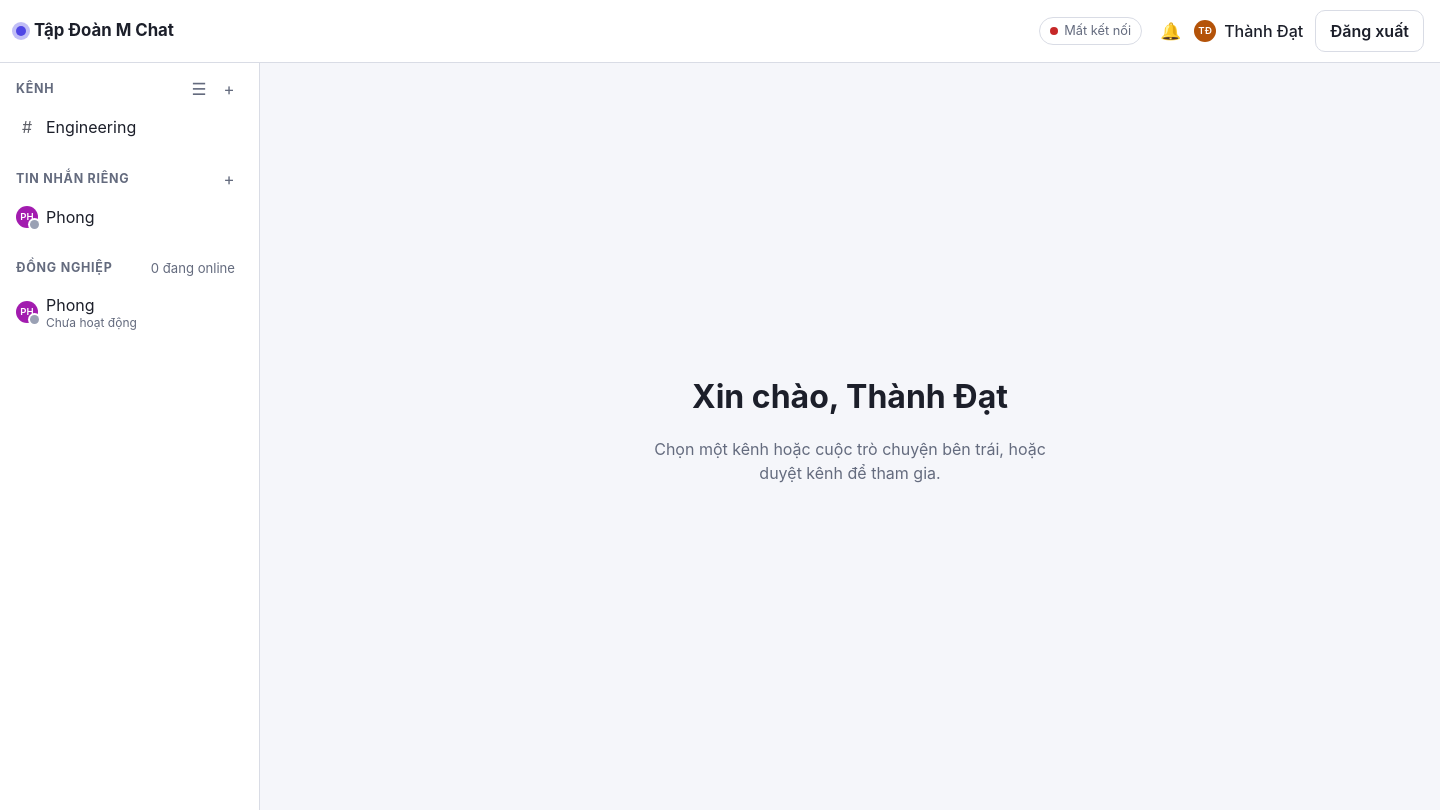
tin nhắn riêng (F04) › tìm nhân viên rồi mở cuộc trò chuyện riêng
Step 1. Click the button named "Tin nhắn mới" → click(229, 179), box [215,165,243,193]
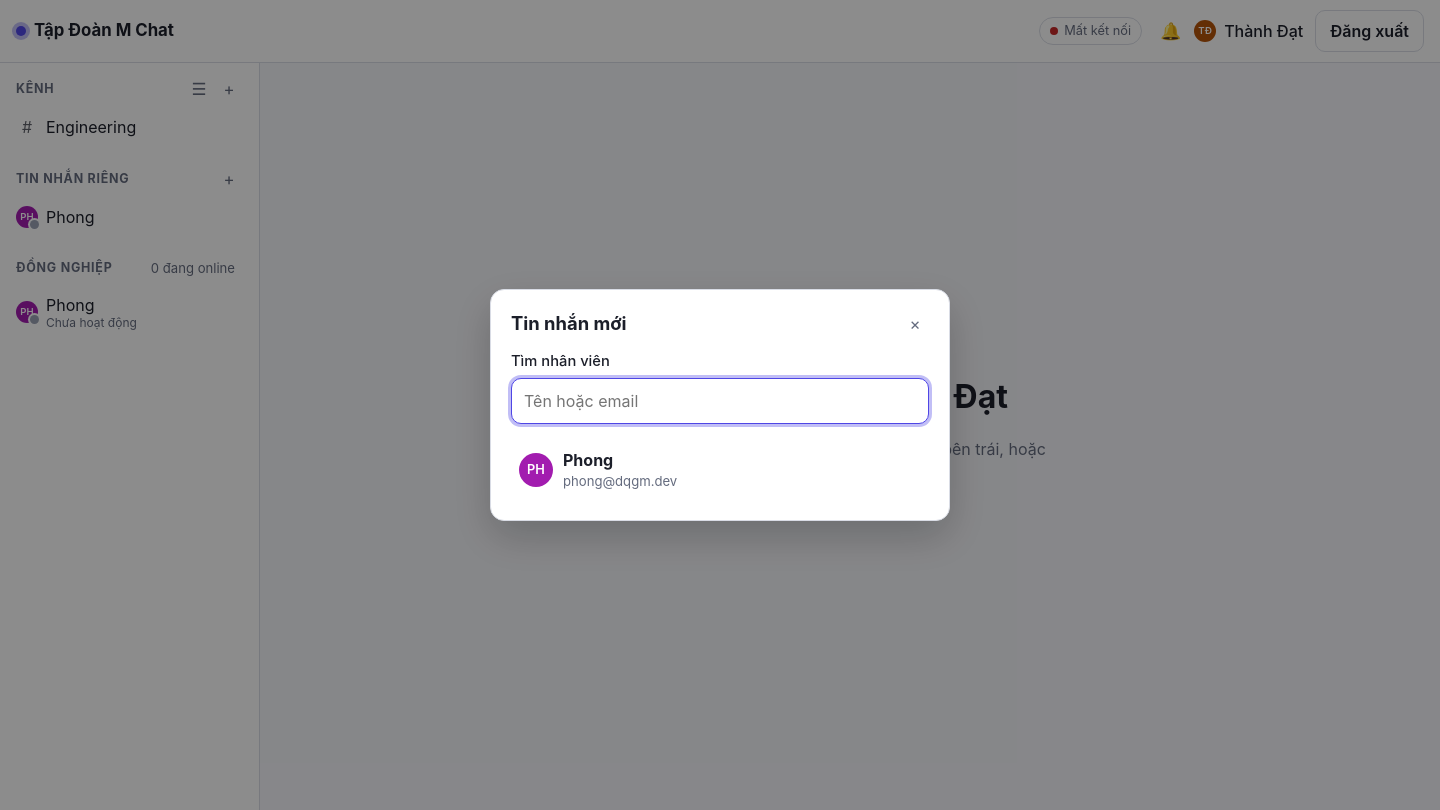
Step 2. Type "pho" into the search field labelled "Tìm nhân viên" → (720, 401), box [511,378,929,424]
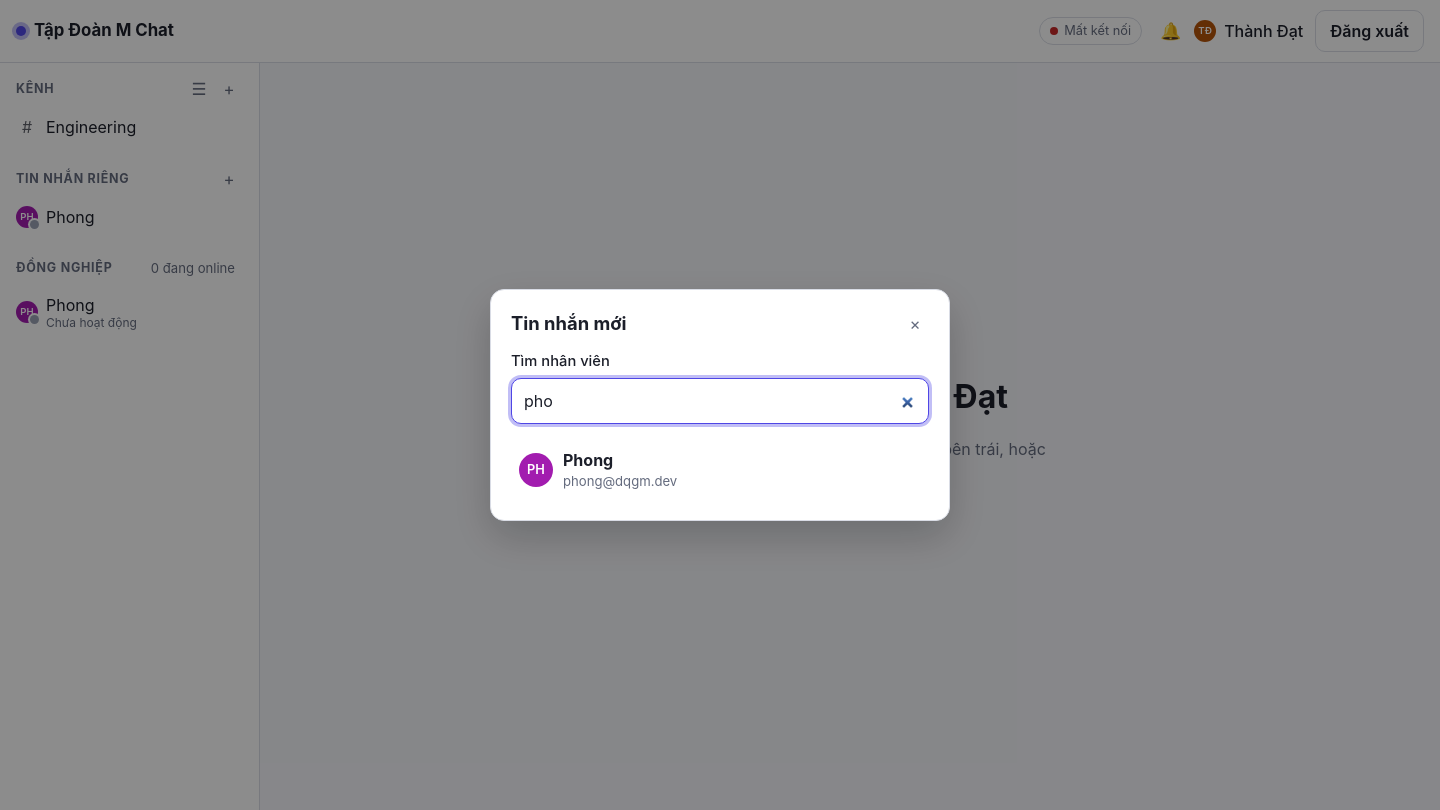
Step 3. Click the button "PH Phong phong@dqgm.dev" → click(536, 470), box [511,440,929,500]
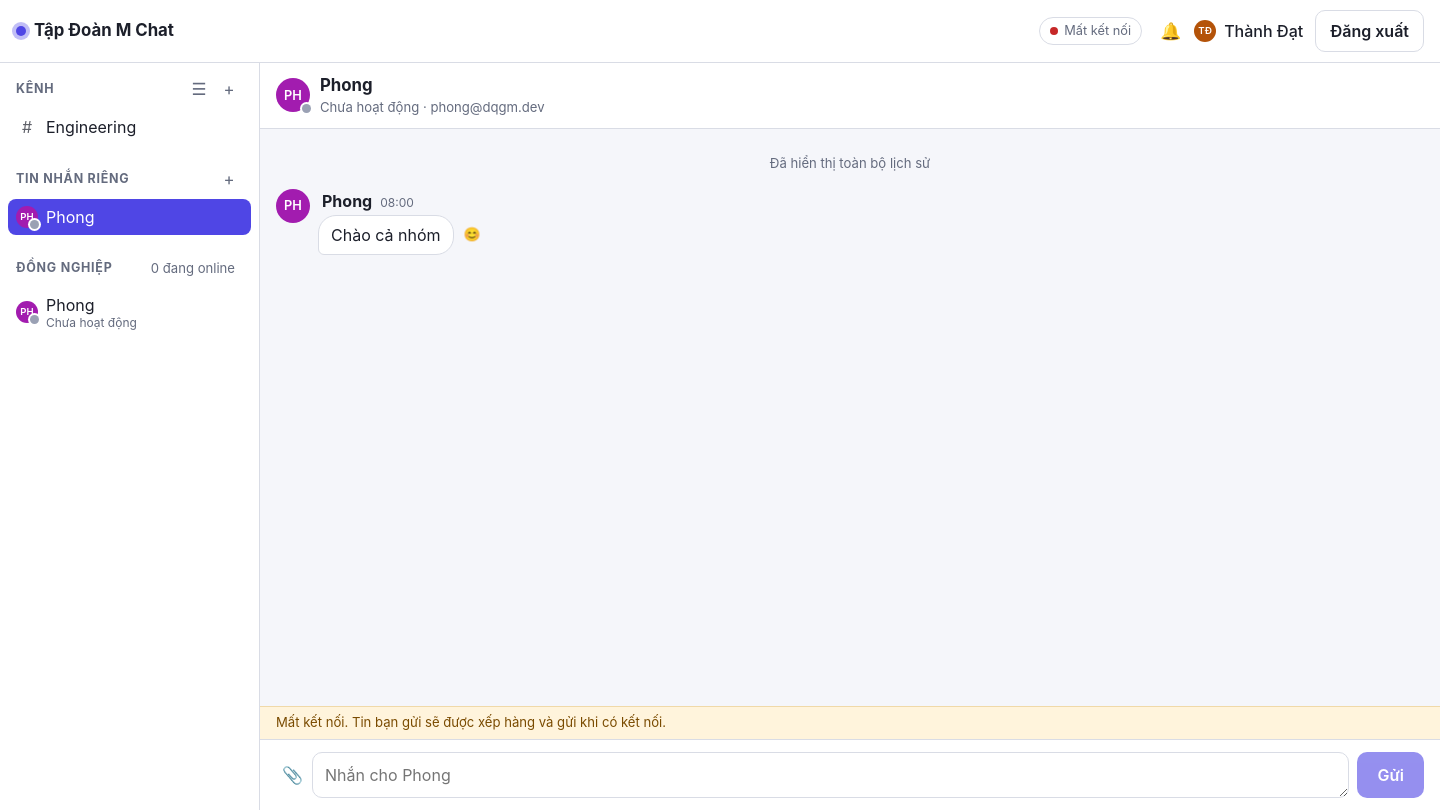
Expected: the heading "Phong" is shown, [320,75,373,95]
